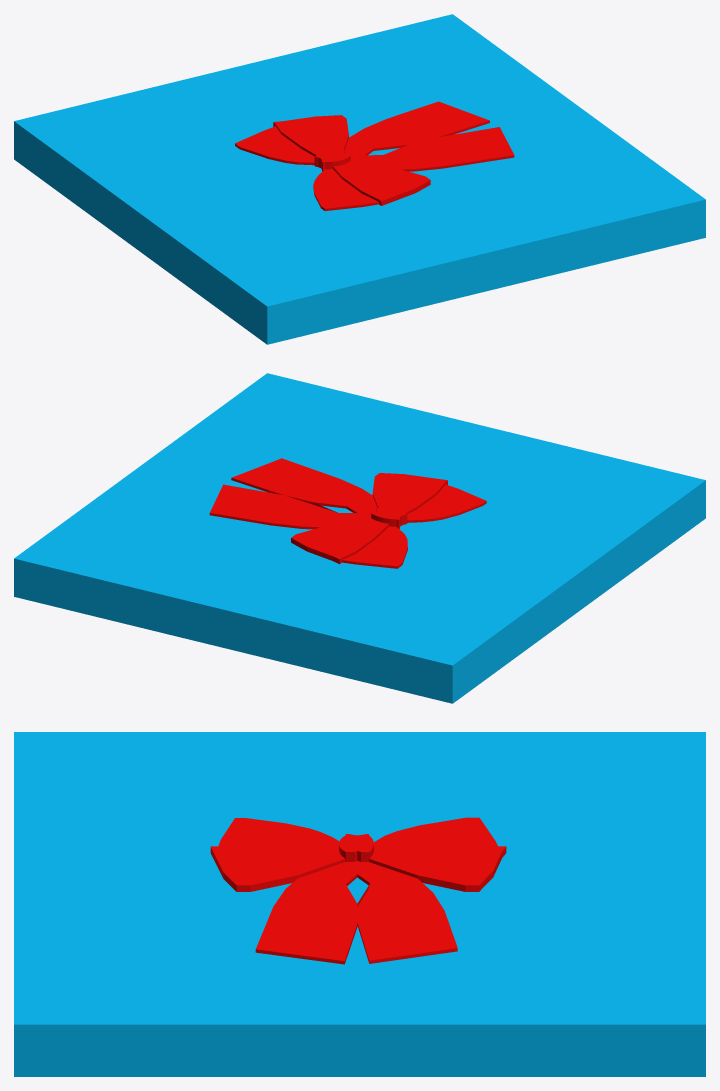
File: present_lid.fbx
3 renders of one model, top to bottom at view 1: azimuth 30°, elevation 25°; view 2: azimuth 150°, elevation 25°; view 3: azimuth 270°, elevation 25°, orthographic. The views are drawn at different scales.
Visible parts, largest first — view 1: Model; view 2: Model; view 3: Model.
Boxes of the visible parts, bbox=[...] form: Model: bbox=[14, 14, 705, 344]; Model: bbox=[14, 373, 705, 703]; Model: bbox=[14, 732, 705, 1076].
Bounding box in the file's own units: 12 × 1.32 × 12.
